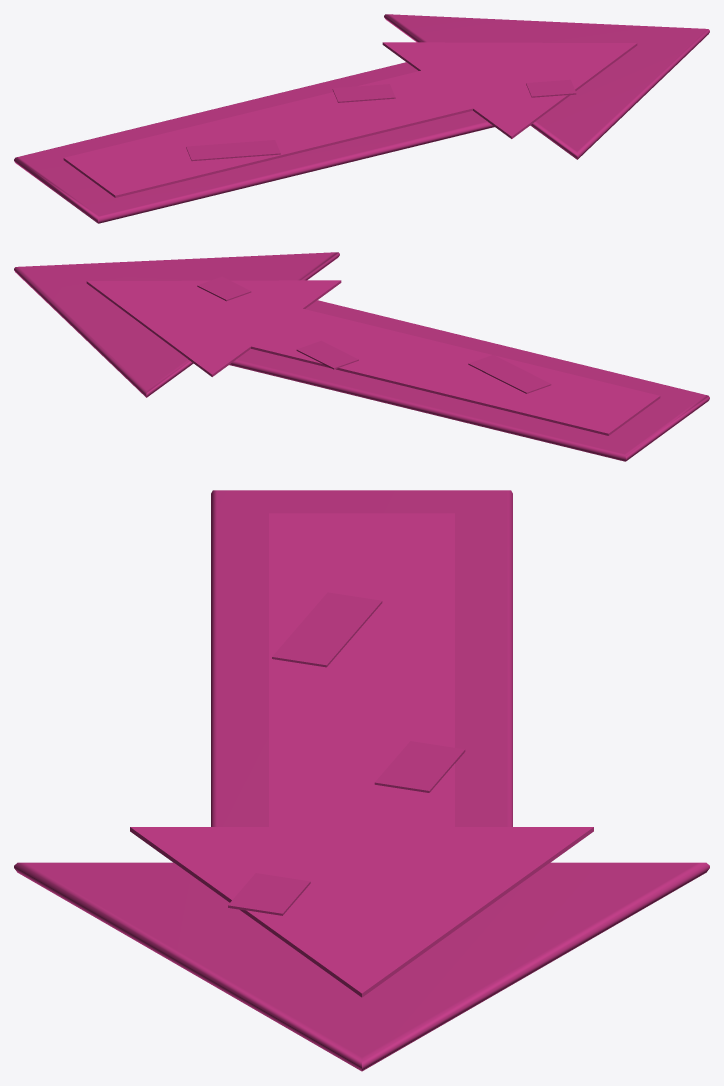
File: SM_Deco_FloorArrow_Magenta.fbx
The picture shows the model from 3 angles, top to bottom: view 1: azimuth 30°, elevation 25°; view 2: azimuth 150°, elevation 25°; view 3: azimuth 270°, elevation 25°; orthographic projection. The views are drawn at different scales.
Visible parts, largest first — view 1: SM_Deco_FloorArrow_Magenta; view 2: SM_Deco_FloorArrow_Magenta; view 3: SM_Deco_FloorArrow_Magenta.
Boxes of the visible parts, x1,y1,x2,y2 form: SM_Deco_FloorArrow_Magenta: [14, 14, 709, 223]; SM_Deco_FloorArrow_Magenta: [14, 252, 709, 461]; SM_Deco_FloorArrow_Magenta: [14, 490, 709, 1071].
Size of the model in its own units: 117 by 1.84 by 60.03.
